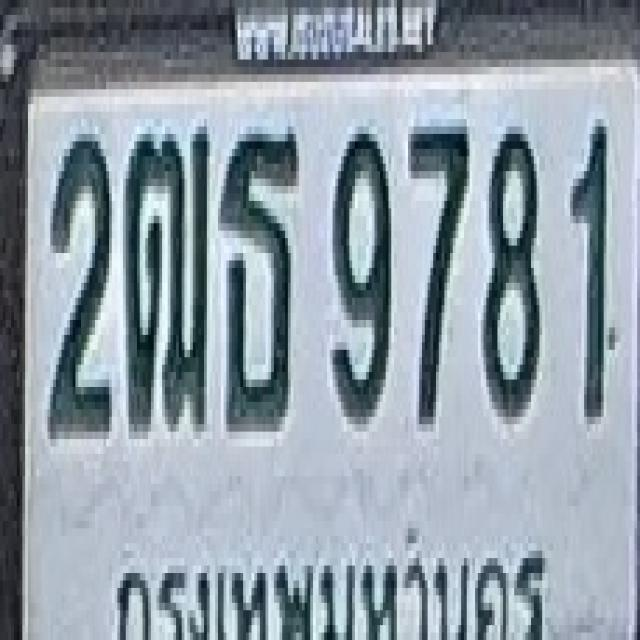1: (570, 119, 607, 417)
2: (47, 130, 112, 436)
7: (410, 119, 468, 424)
8: (484, 123, 540, 413)
9: (331, 127, 390, 424)
A18: (124, 123, 208, 428)
A24: (219, 126, 298, 432)
BKK: (111, 548, 557, 640)
